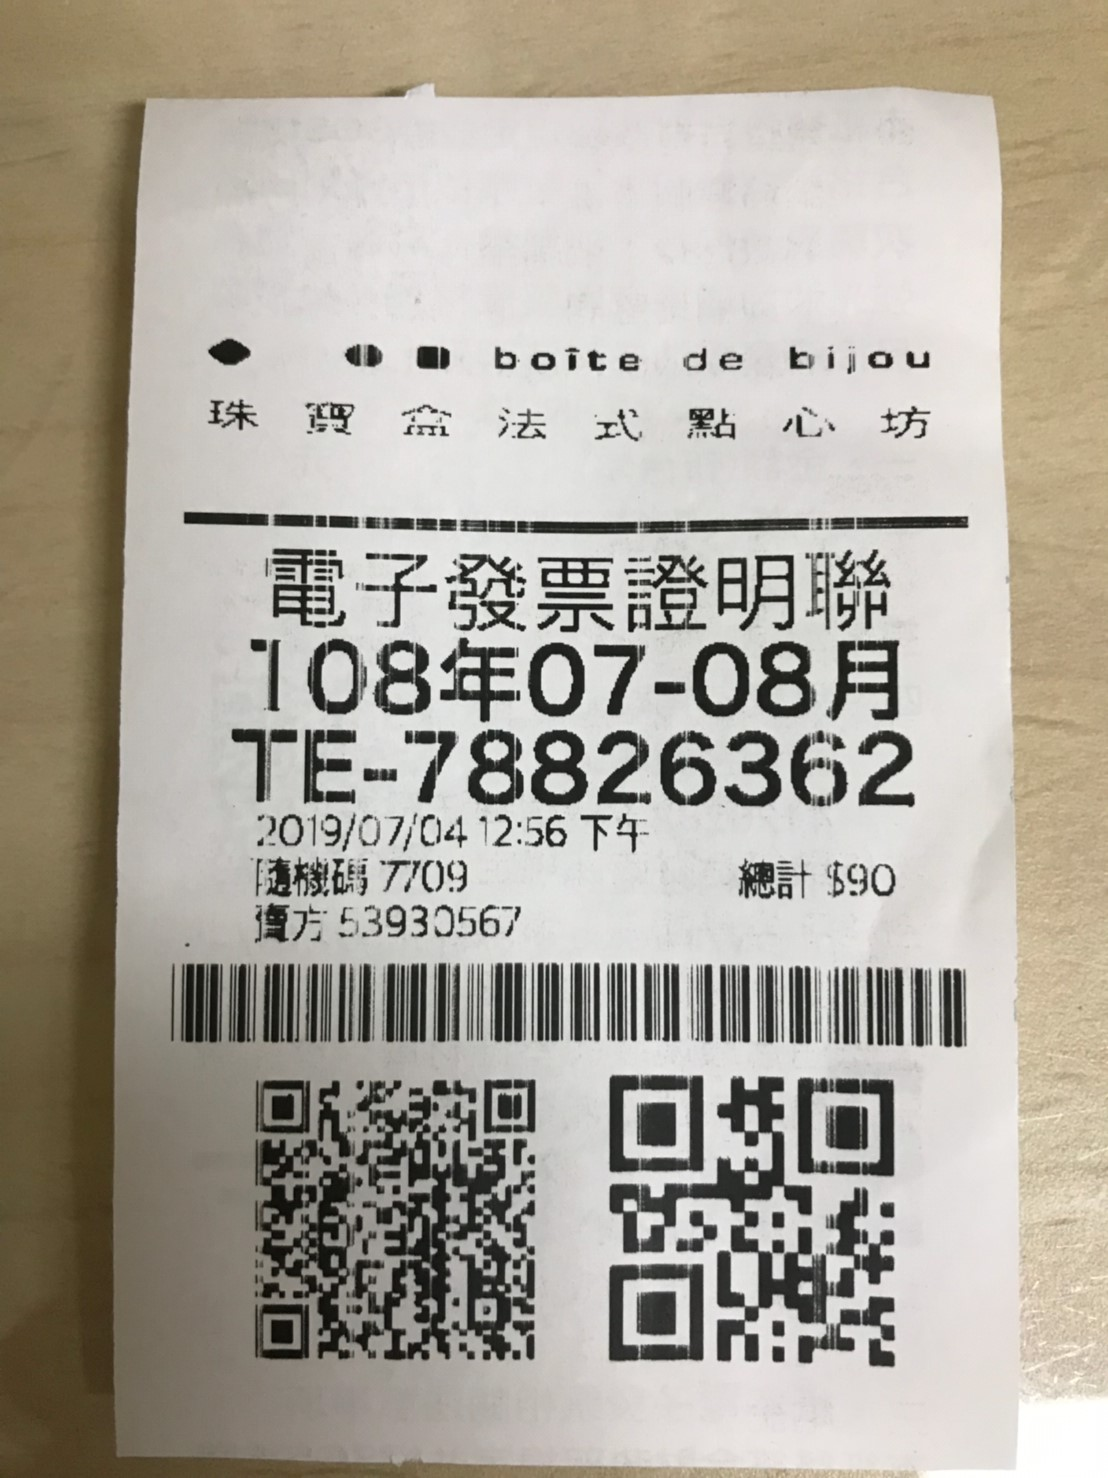Date_New: (248, 632, 899, 725)
Number_New: (404, 725, 917, 806)
